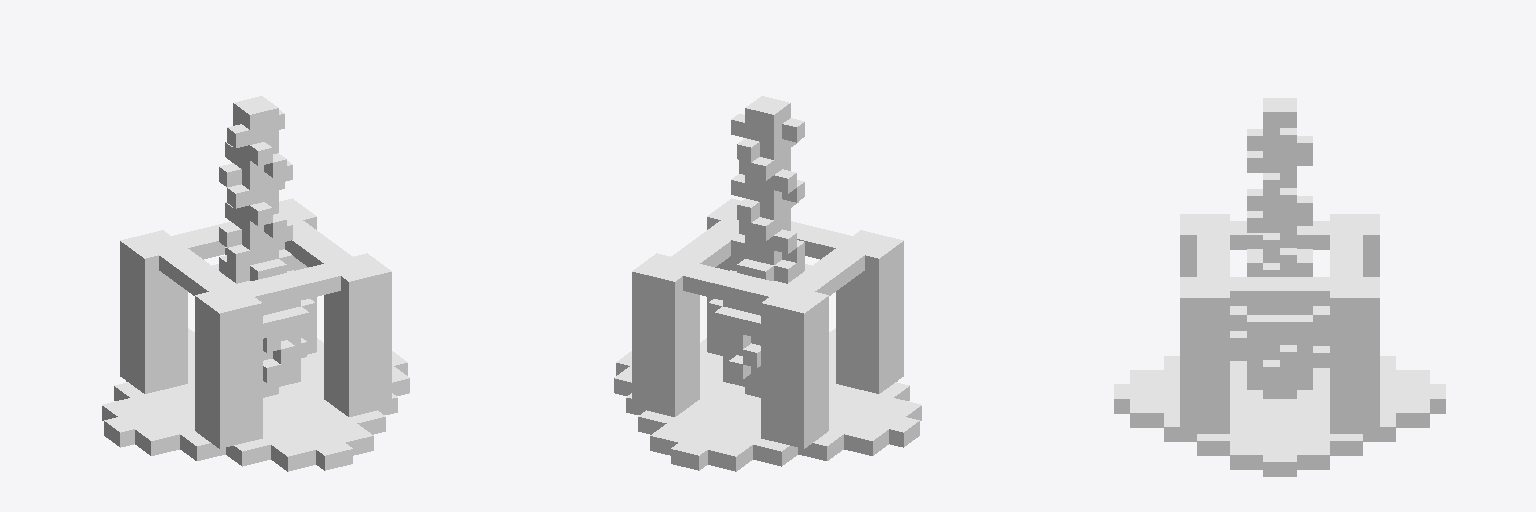
File: Lightning_Heavy.obj
3 renders of one model, left to right at view 1: azimuth 30°, elevation 25°; view 2: azimuth 150°, elevation 25°; view 3: azimuth 270°, elevation 25°, orthographic.
Visible parts, largest first — view 1: Lightning_Heavy; view 2: Lightning_Heavy; view 3: Lightning_Heavy.
Boxes of the visible parts, x1=… form: Lightning_Heavy: x1=102, y1=96, x2=409, y2=471; Lightning_Heavy: x1=614, y1=96, x2=921, y2=471; Lightning_Heavy: x1=1114, y1=98, x2=1445, y2=476.
Size of the model in its own units: 20 by 20 by 20.